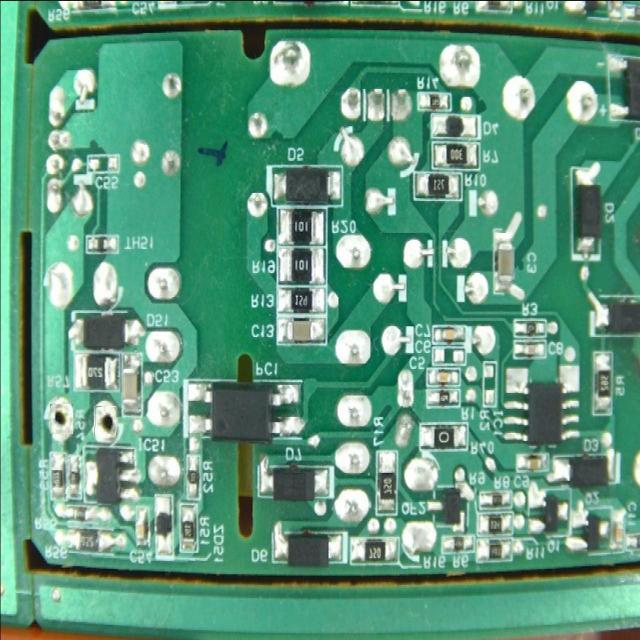damged: (94, 406, 116, 438), (50, 404, 73, 434)
